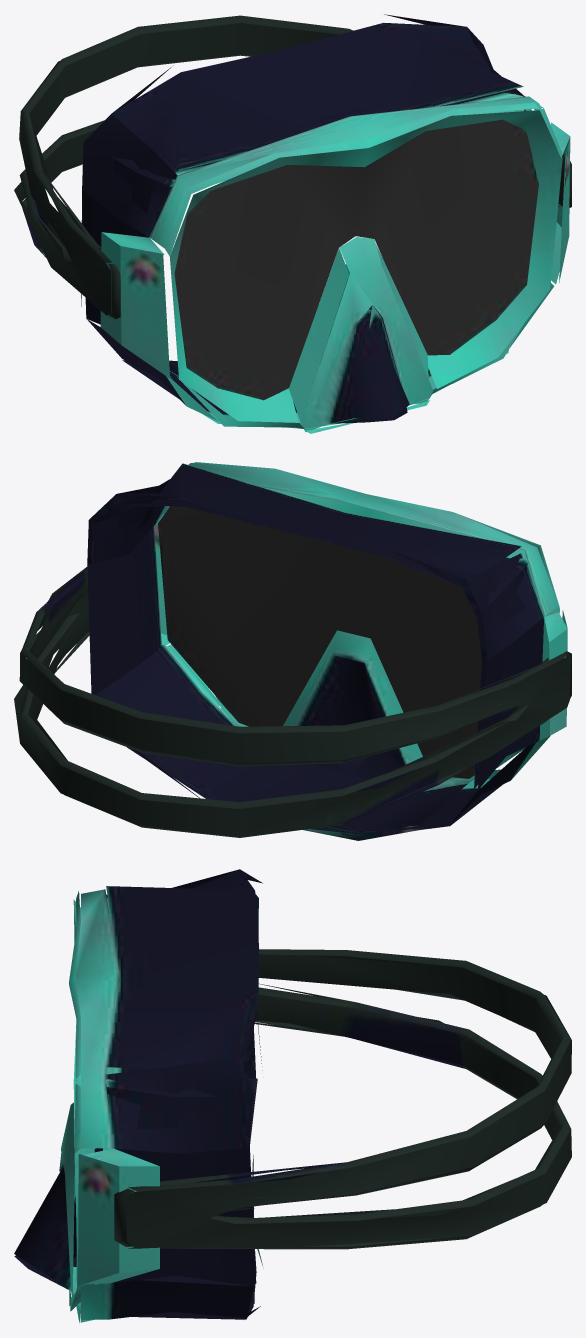
The model's file is scuba_mask.glb.
3 views of the same model, one above another, from view 1: azimuth 30°, elevation 25°; view 2: azimuth 150°, elevation 25°; view 3: azimuth 270°, elevation 25° (orthographic). The views are drawn at different scales.
Parts seen in each view (by area): view 1: Box001; view 2: Box001; view 3: Box001.
Part boxes in pixels (bbox=[...]): Box001: bbox=[14, 14, 571, 433]; Box001: bbox=[14, 462, 571, 840]; Box001: bbox=[14, 869, 571, 1323].
Size of the model in its own units: 41.75 by 27.15 by 40.62.
Materials: 1 (1 with a texture image).
